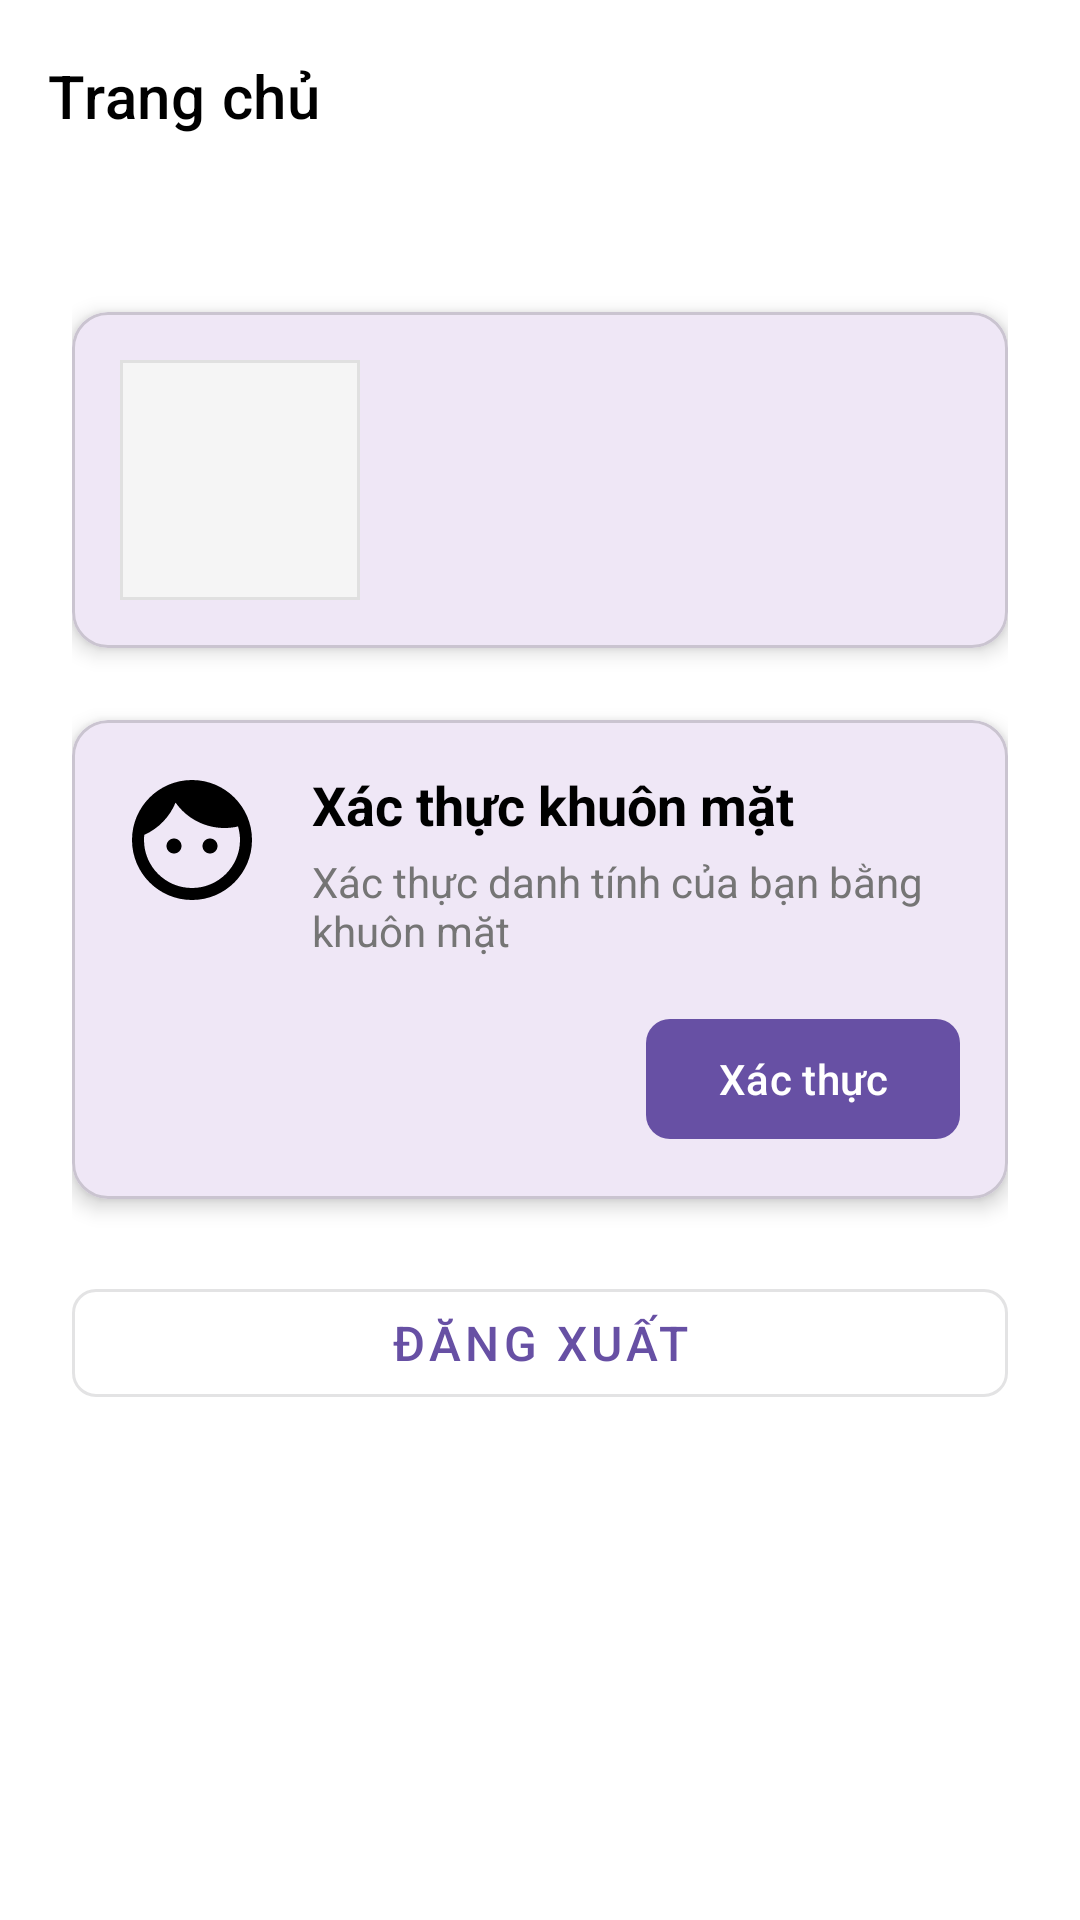

Icons on this 1080×1920 Android screen, each with its box as (x1, y1, x2, y2):
face: (132, 780, 252, 900)
